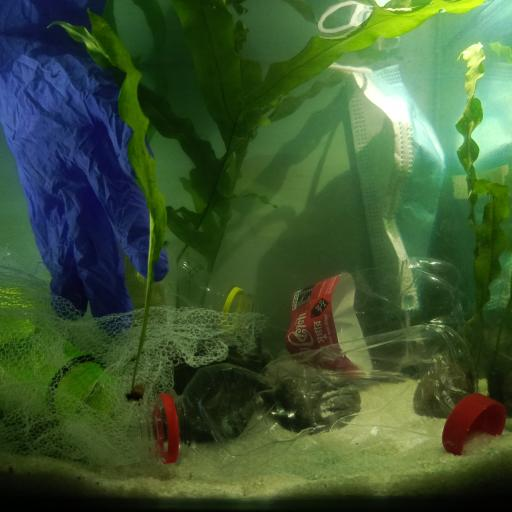bottle_cap: (442, 386, 507, 456)
glove: (0, 32, 171, 339)
mask: (322, 0, 449, 310)
net: (2, 251, 258, 462)
plastic_bottle: (130, 320, 476, 473), (274, 254, 466, 376), (113, 224, 255, 332), (0, 284, 108, 417)
